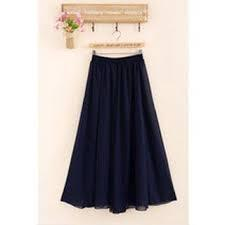skirt: (60, 51, 179, 211)
